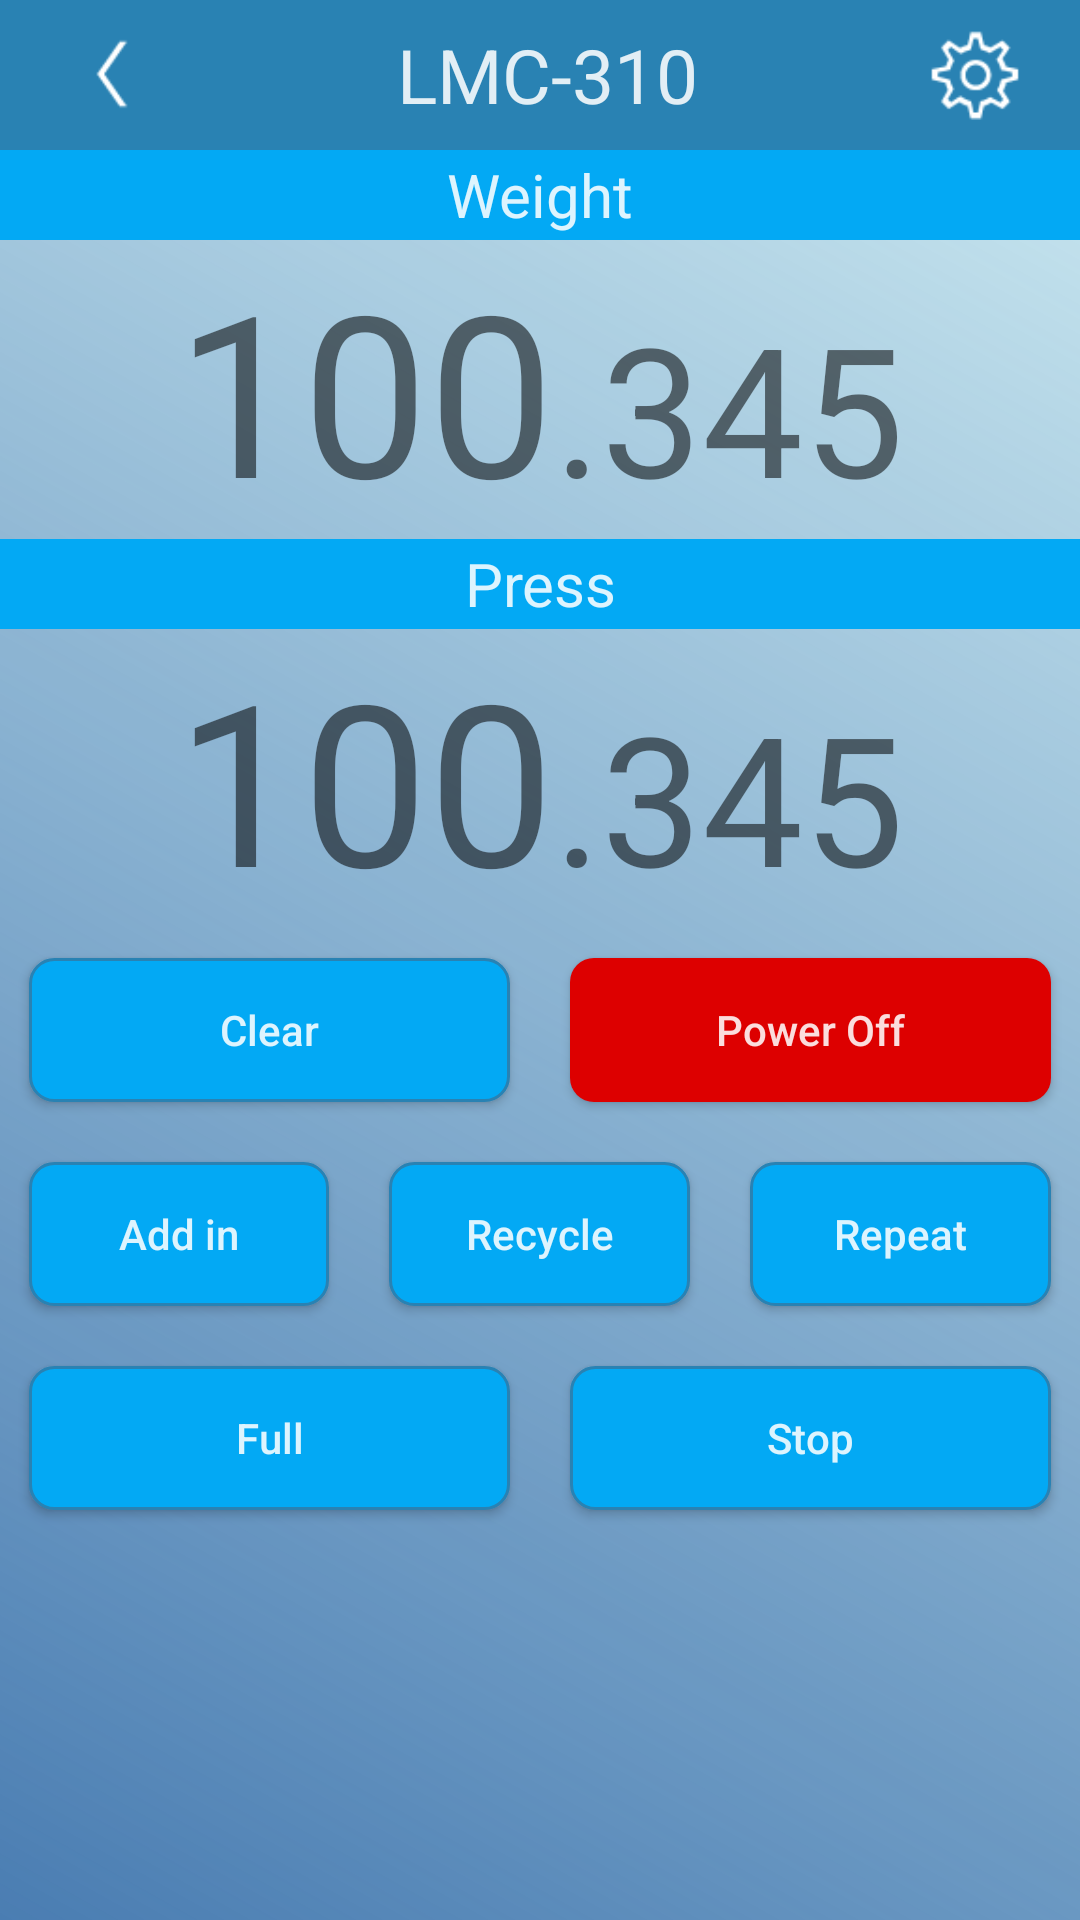

Locate icon controls on the screen. Image size 1080×1920, boxes as (x1, y1, x2, y2).
back: (96, 40, 127, 108)
settings: (931, 31, 1019, 120)
